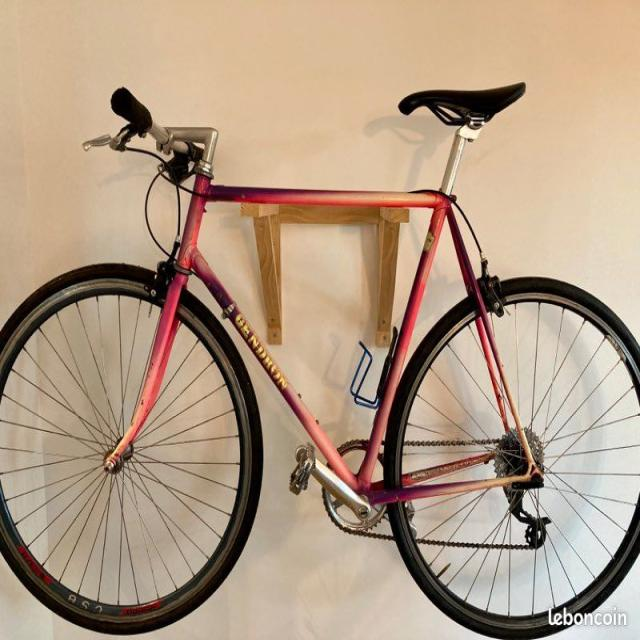Bike: (0, 83, 639, 639)
